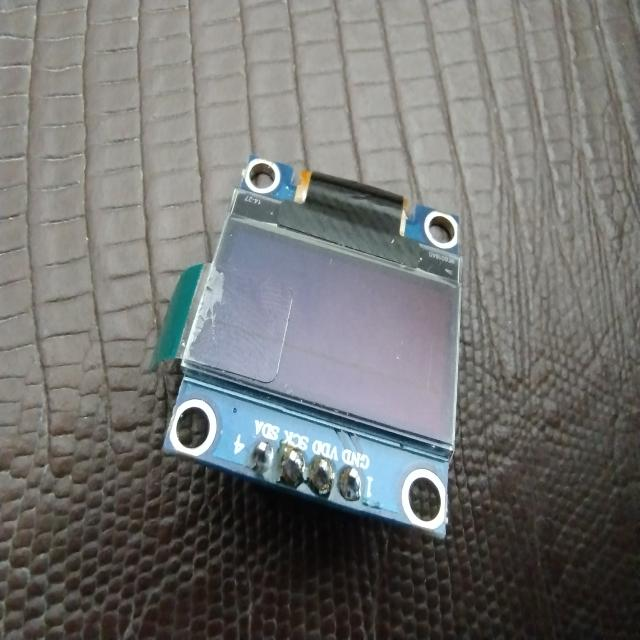oled: (145, 138, 479, 557)
